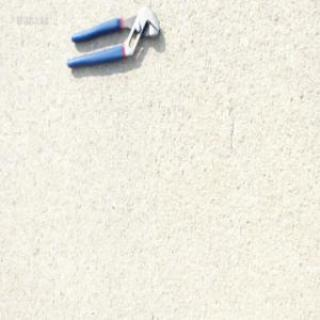Pliertrack_idkeyframe: (66, 5, 160, 70)
